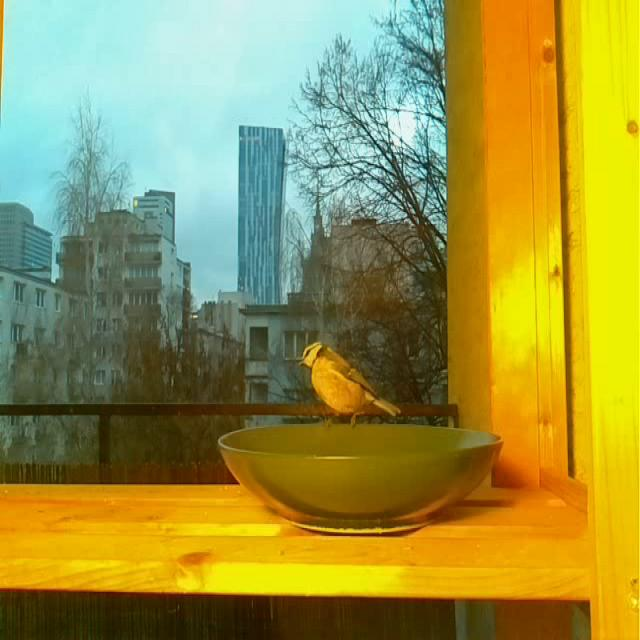Modraszka: (296, 334, 404, 429)
